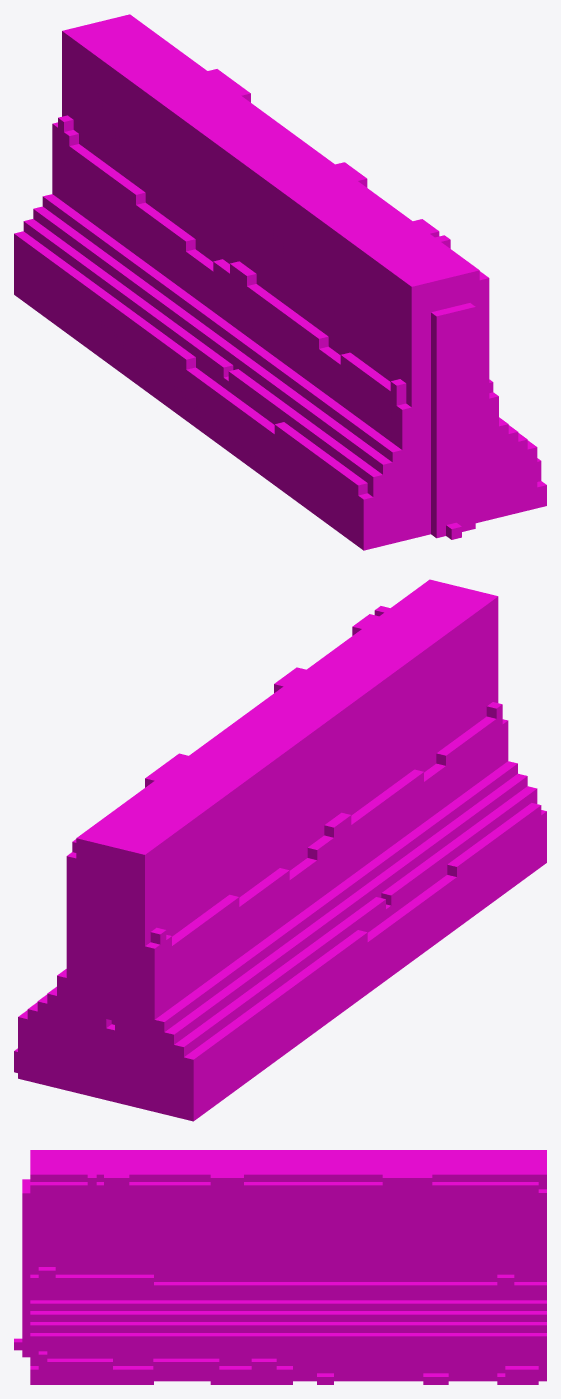
The picture shows the model from 3 angles, top to bottom: view 1: azimuth 30°, elevation 25°; view 2: azimuth 150°, elevation 25°; view 3: azimuth 270°, elevation 25°; orthographic projection. The views are drawn at different scales.
Parts seen in each view (by area): view 1: col_roof_01, col_block_01, col_wall_06, col_roof_08, col_column_01, col_roof_03, col_block_14, col_block_16, col_roof_02, col_block_12, col_block_10, col_wall_03 (+11 smaller); view 2: col_roof_01, col_block_01, col_wall_06, col_roof_08, col_roof_03, col_block_14, col_roof_02, col_block_16, col_roof_04, col_block_12, col_block_10, col_wall_07 (+14 smaller); view 3: col_wall_08, col_block_01, col_block_18, col_roof_08, col_block_15, col_block_17, col_roof_01, col_block_12, col_block_11, col_block_10, col_block_13, col_floor_05 (+19 smaller).
Part boxes in pixels (x1,y1,x2,y2): col_roof_01: (195, 121, 441, 407); col_block_01: (14, 244, 537, 550); col_wall_06: (58, 159, 430, 449); col_roof_08: (106, 18, 479, 288); col_column_01: (431, 303, 475, 538); col_roof_03: (78, 36, 174, 192); col_block_14: (33, 206, 430, 474); col_block_16: (48, 198, 430, 462); col_roof_02: (145, 84, 223, 238); col_block_12: (23, 219, 233, 377); col_block_10: (14, 231, 195, 369); col_wall_03: (97, 26, 450, 309); col_roof_01: (250, 589, 498, 870); col_block_01: (18, 810, 546, 1121); col_wall_06: (160, 719, 508, 1015); col_roof_08: (82, 579, 458, 840); col_roof_03: (132, 786, 229, 936); col_block_14: (115, 773, 527, 1044); col_roof_02: (199, 749, 279, 897); col_block_16: (160, 761, 517, 1027); col_roof_04: (66, 852, 150, 946); col_block_12: (27, 897, 385, 1057); col_block_10: (18, 930, 367, 1069); col_wall_07: (66, 928, 160, 999); col_wall_08: (30, 1182, 538, 1281); col_block_01: (30, 1343, 546, 1381); col_block_18: (30, 1282, 538, 1300); col_roof_08: (30, 1164, 538, 1181); col_block_15: (30, 1311, 546, 1321); col_block_17: (30, 1300, 538, 1310); col_roof_01: (30, 1150, 350, 1160); col_block_12: (251, 1322, 546, 1332); col_block_11: (30, 1333, 292, 1344); col_block_10: (292, 1333, 546, 1344); col_block_13: (30, 1322, 251, 1332); col_floor_05: (30, 1366, 153, 1384).
Bounding box in the file's own units: 0.6112 × 0.8035 × 2.08.
